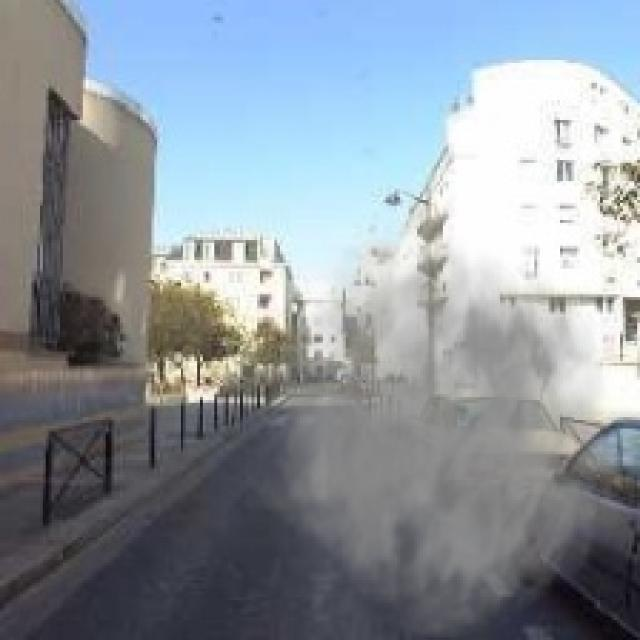Smoke: (246, 214, 628, 637)
